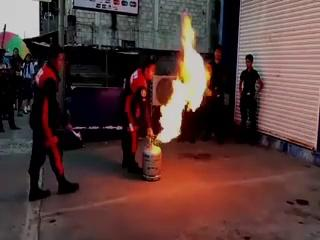Fire: (153, 13, 206, 152)
